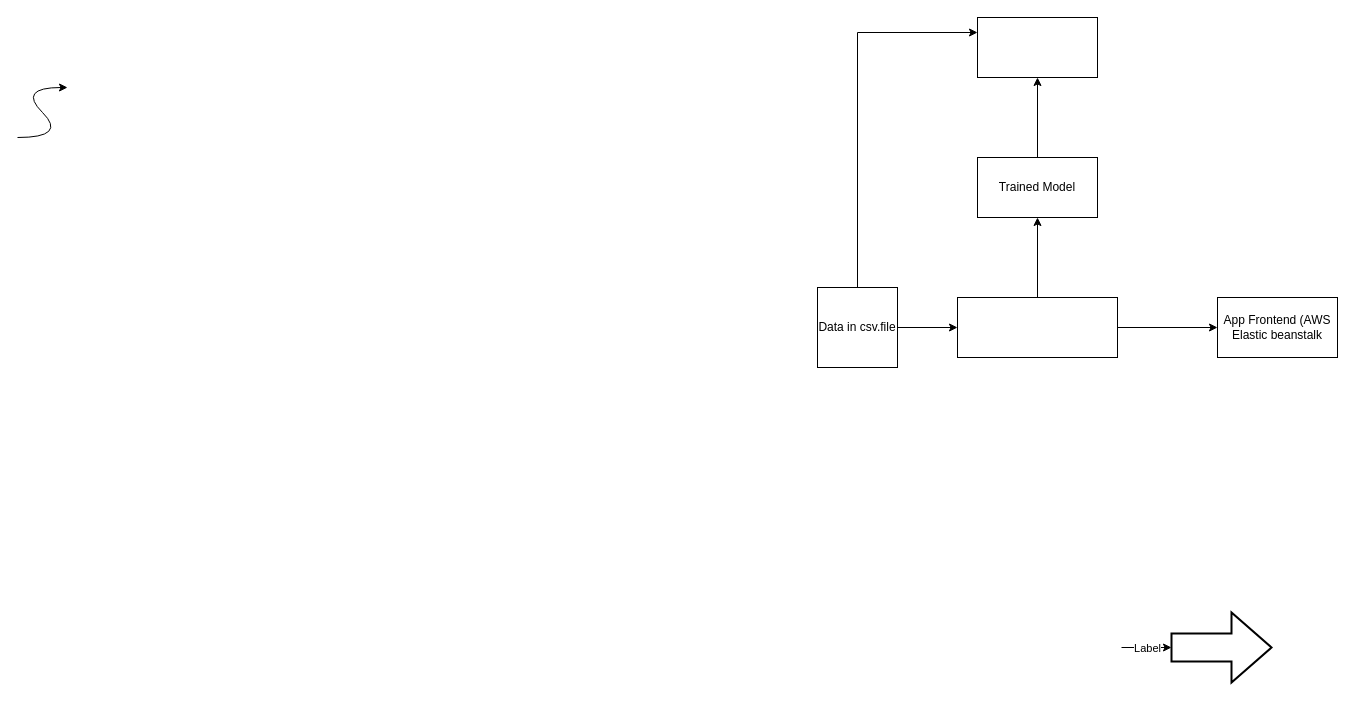
The diagram is 1355 pixels wide and 701 high, and some of its shapes have lost their labels. Here are the shapes that lost their labels. From the top down, the box of each, then its label:
(976, 16, 1098, 78): Training Notebook
(956, 296, 1118, 358): Flask API (AWS elastic beanstalk
